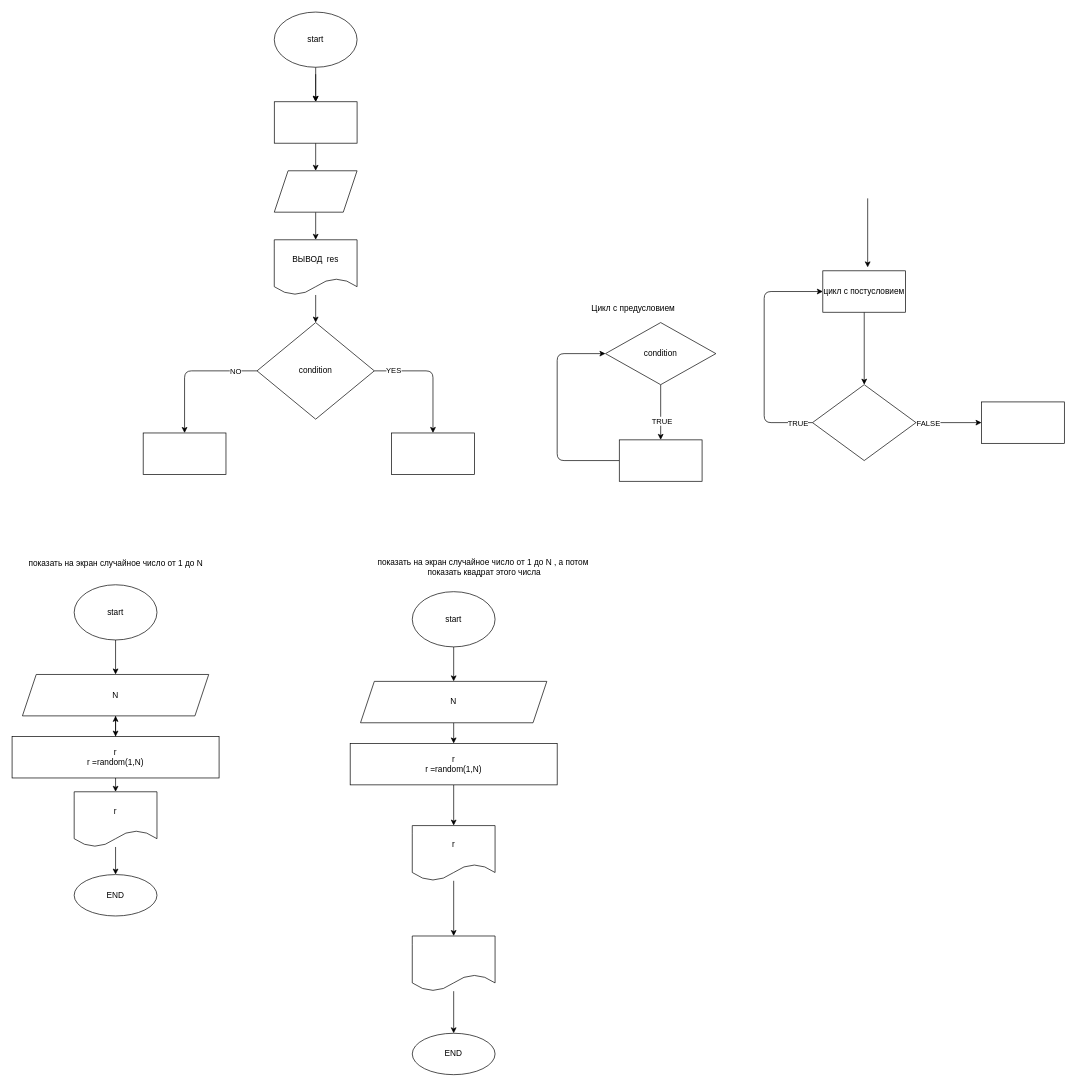
Image size: 1076x1087. Some labels were removed from this diagram. The centre of each missing label's shape, as x and y in pixels:
"condution" belongs at pixel 864 422.
"count = 0 res = 1*sqrt(2)" belongs at pixel 315 122.
"math.pow(r,2)" belongs at pixel 453 963.
"ВВОД count" belongs at pixel 315 191.
